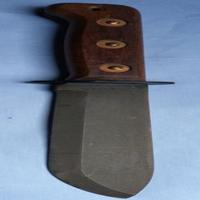knife: (32, 2, 166, 198)
